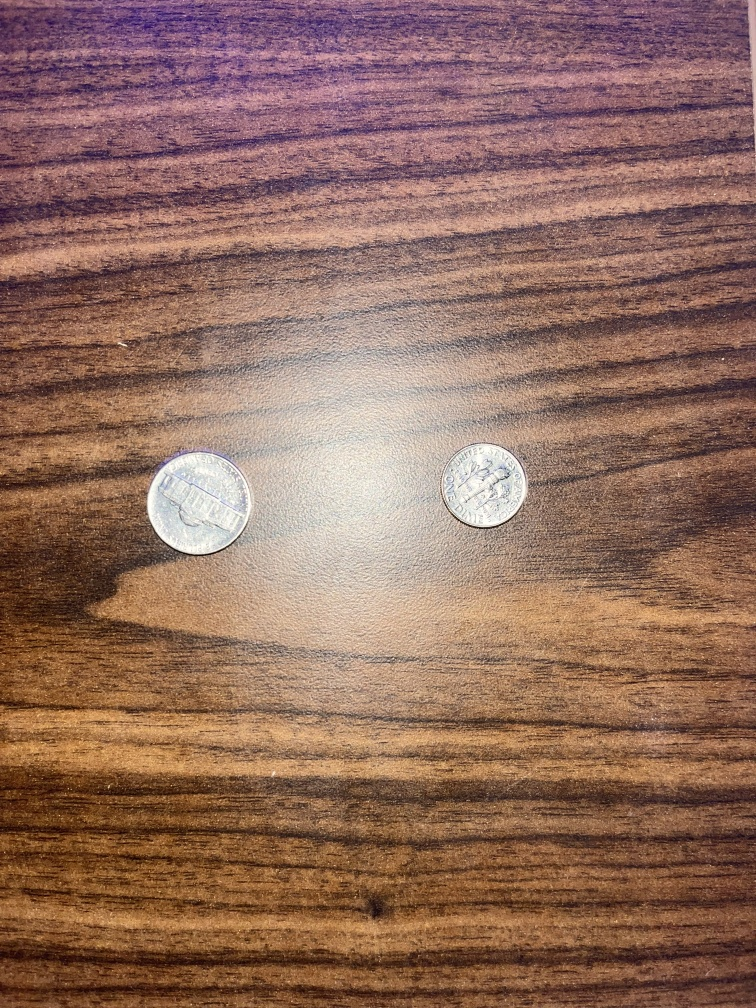dime: (433, 439, 534, 534)
nickel: (143, 448, 259, 560)
